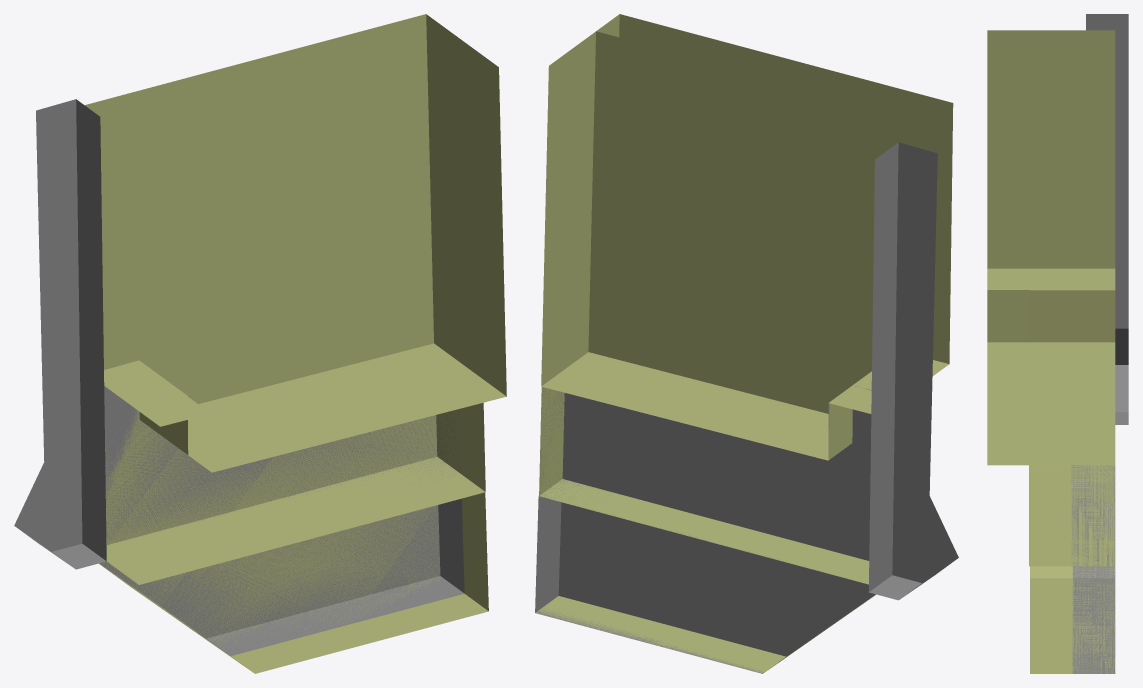
The picture shows the model from 3 angles, left to right: view 1: azimuth 30°, elevation 25°; view 2: azimuth 150°, elevation 25°; view 3: azimuth 270°, elevation 25°; orthographic projection. The views are drawn at different scales.
Parts seen in each view (by area): view 1: 0_1_2_0_3_3_1_1_1; view 2: 0_1_2_0_3_3_1_1_1; view 3: 0_1_2_0_3_3_1_1_1.
Part boxes in pixels (x1,y1,x2,y2): 0_1_2_0_3_3_1_1_1: (14,14,506,673); 0_1_2_0_3_3_1_1_1: (535,14,958,673); 0_1_2_0_3_3_1_1_1: (987,14,1128,673).
Size of the model in its own units: 29.9 by 38.96 by 9.94.
